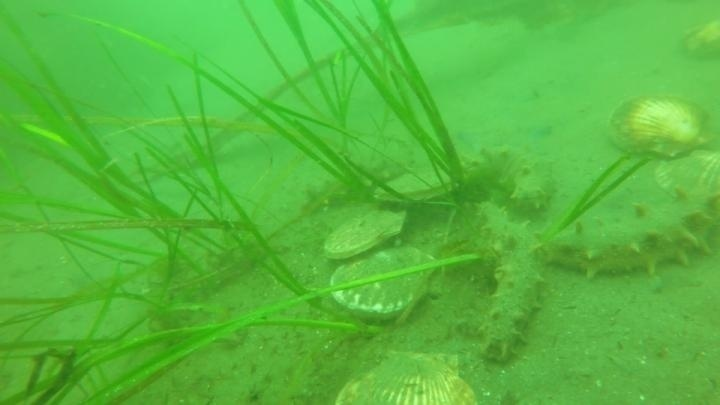holothurian: (537, 184, 718, 282), (471, 201, 547, 363), (456, 140, 558, 214)
scallop: (324, 245, 443, 326), (604, 88, 715, 165), (336, 348, 482, 405), (319, 201, 408, 264), (653, 147, 720, 209), (376, 169, 460, 202), (677, 15, 720, 66)
